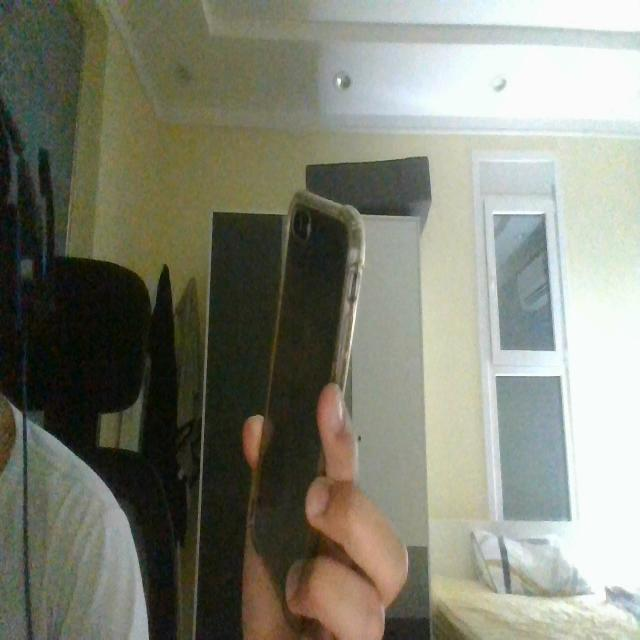Phone: (244, 187, 372, 632)
